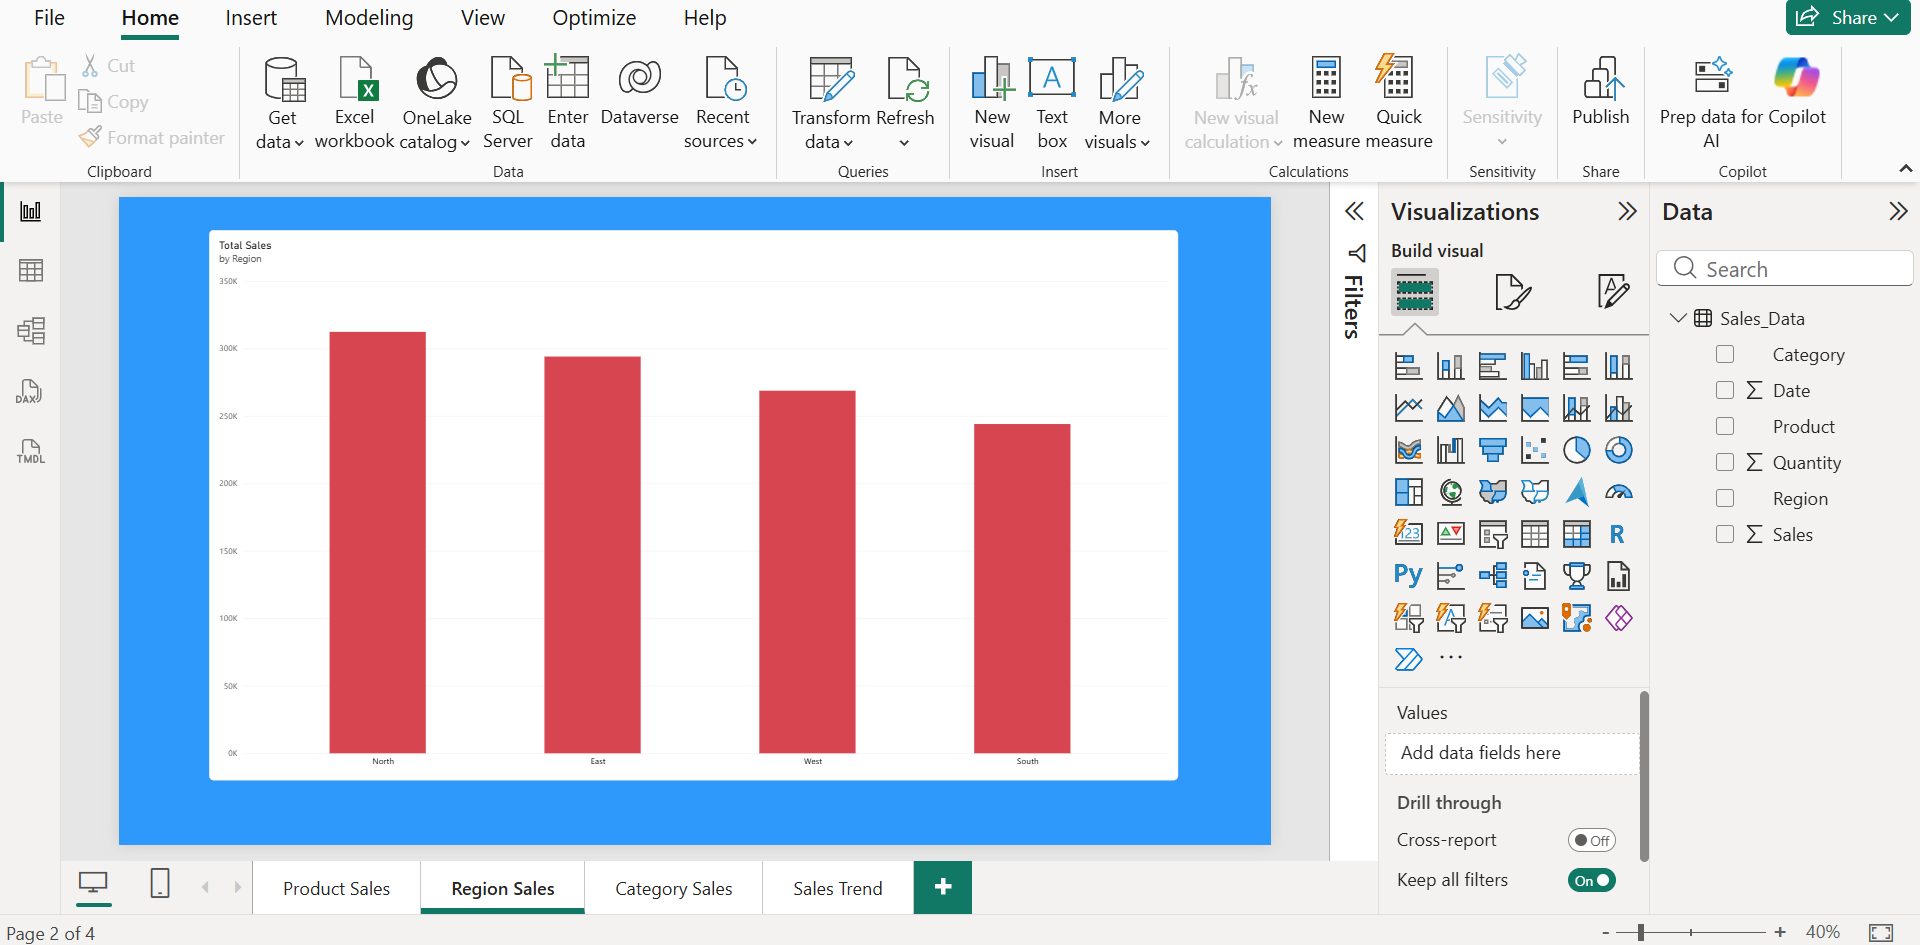

The dashboard page shown, as its layout file describes it:
{"tool":"powerbi","page":{"name":"Region Sales","canvas":[1920,1080],"ordinal":1},"visuals":[{"type":"columnChart","fields":{"Category":["Sales_Data.Region"],"Y":["Sum(Sales_Data.Sales)"]},"box":[150,55,1615,917.5],"z":1}]}

Visuals, with their boxes on the page's 1920x1080 design canvas (x1, y1, x2, y2). These are canvas units, not pixel positions in the 1920x945 screenshot, which may show the page scaled, cropped or inside an application window:
columnChart - Sales_Data.Region x Sum(Sales_Data.Sales): detection(150, 55, 1765, 972)
